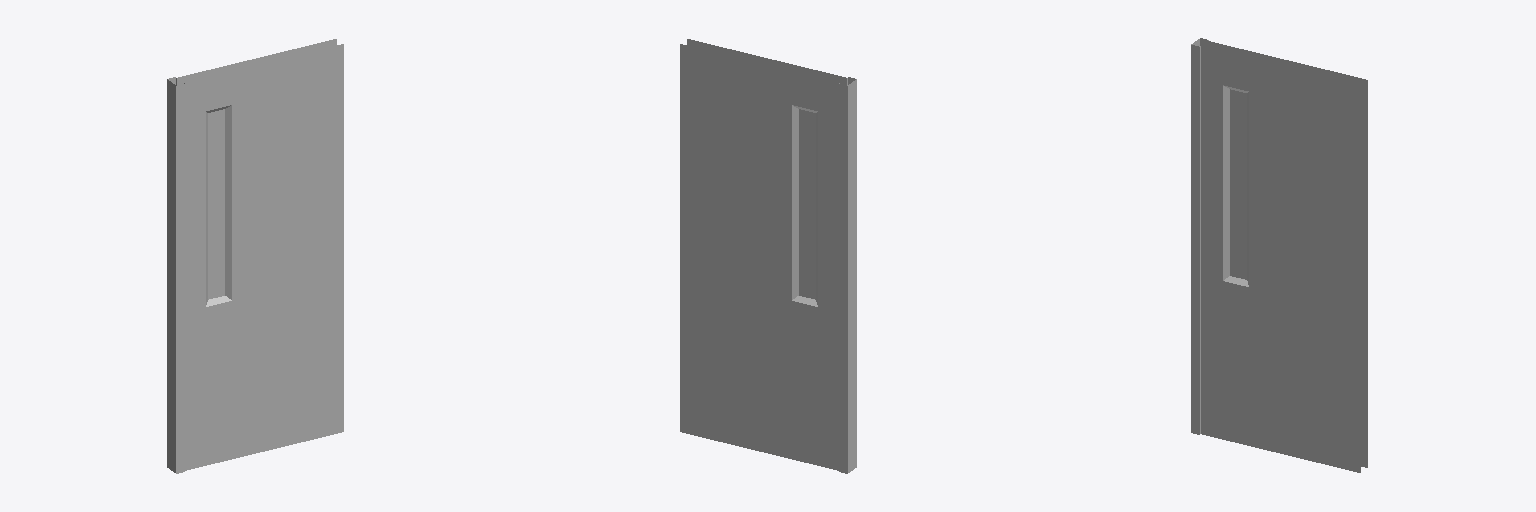
The model's file is concrete_door_mv_right.obj.
3 views of the same model, side by side, from view 1: azimuth 30°, elevation 25°; view 2: azimuth 150°, elevation 25°; view 3: azimuth 330°, elevation 25° (orthographic).
Parts seen in each view (by area): view 1: concrete_door_mv_right_concrete_door.001; view 2: concrete_door_mv_right_concrete_door.001; view 3: concrete_door_mv_right_concrete_door.001.
Part boxes in pixels (x1,y1,x2,y2): concrete_door_mv_right_concrete_door.001: (167,39,343,473); concrete_door_mv_right_concrete_door.001: (680,39,856,473); concrete_door_mv_right_concrete_door.001: (1191,38,1367,472).
Bounding box in the file's own units: 1.06 × 2.33 × 0.1.